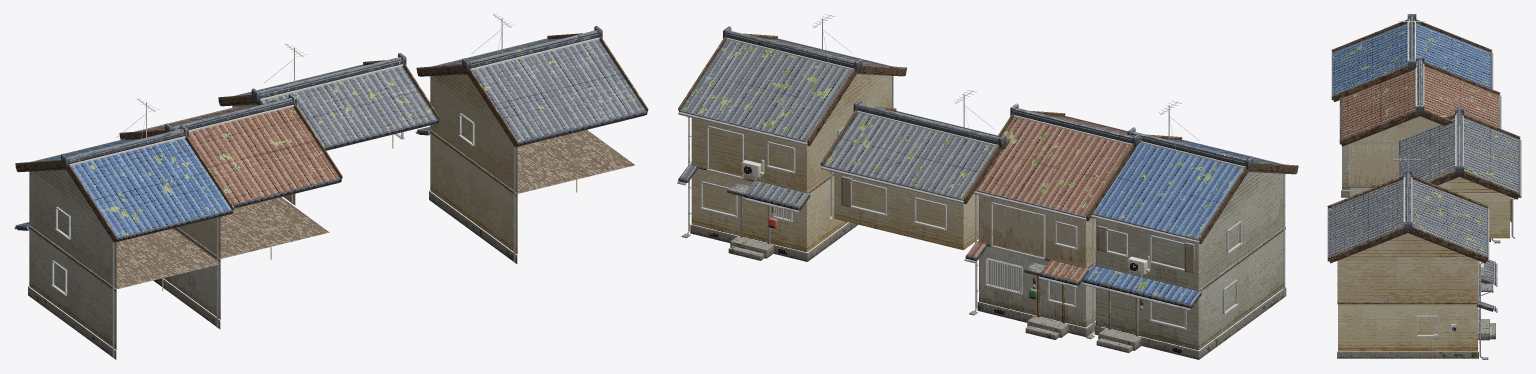
Rendered from lane_fw.glb.
3 renders of one model, left to right at view 1: azimuth 30°, elevation 25°; view 2: azimuth 150°, elevation 25°; view 3: azimuth 270°, elevation 25°, orthographic. The views are drawn at different scales.
Visible parts, largest first — view 1: lane_fw; view 2: lane_fw; view 3: lane_fw.
Boxes of the visible parts, box(x1,y1,x2,y2) form: lane_fw: box(14, 14, 648, 359); lane_fw: box(677, 14, 1298, 359); lane_fw: box(1327, 14, 1521, 359).
Bounding box in the file's own units: 24.71 × 9.17 × 9.69.
Materials: 1 (1 with a texture image).
